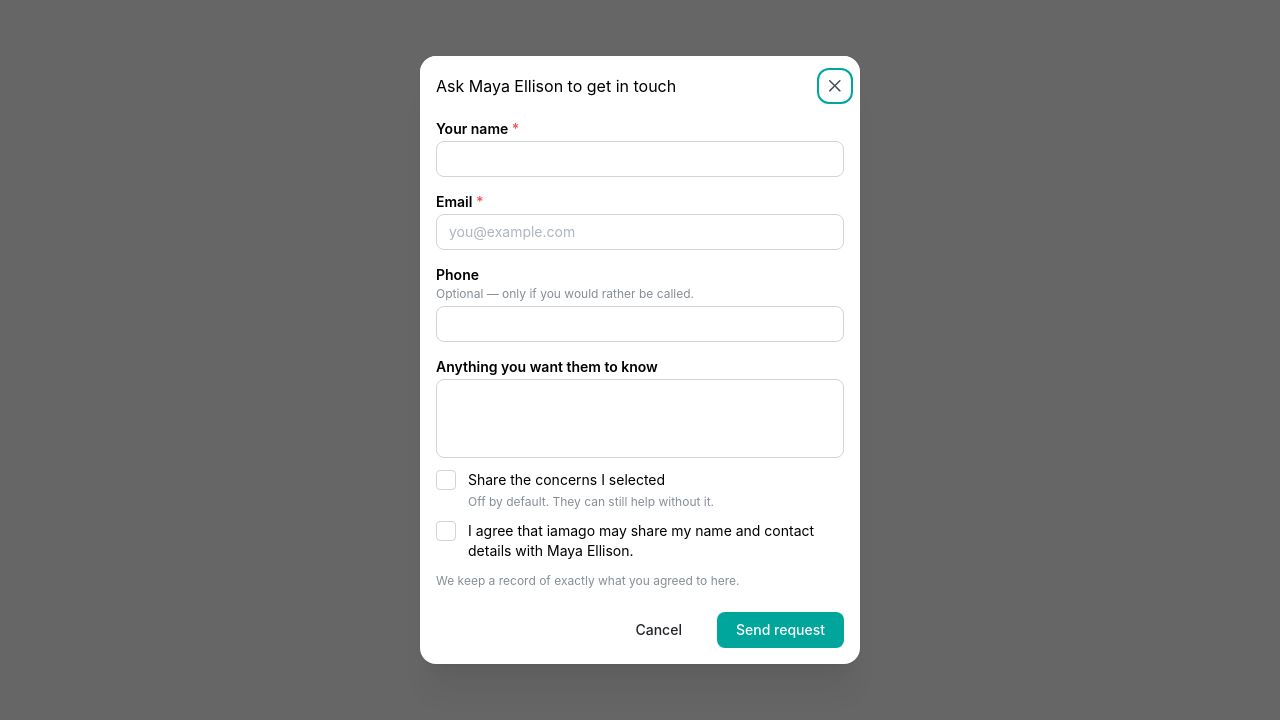
Test: <ContactRequestModal /> › will not send without consent
Type "Ada Lovelace" into the field labelled "Your name *" at (640, 159), box [436,141,844,177]
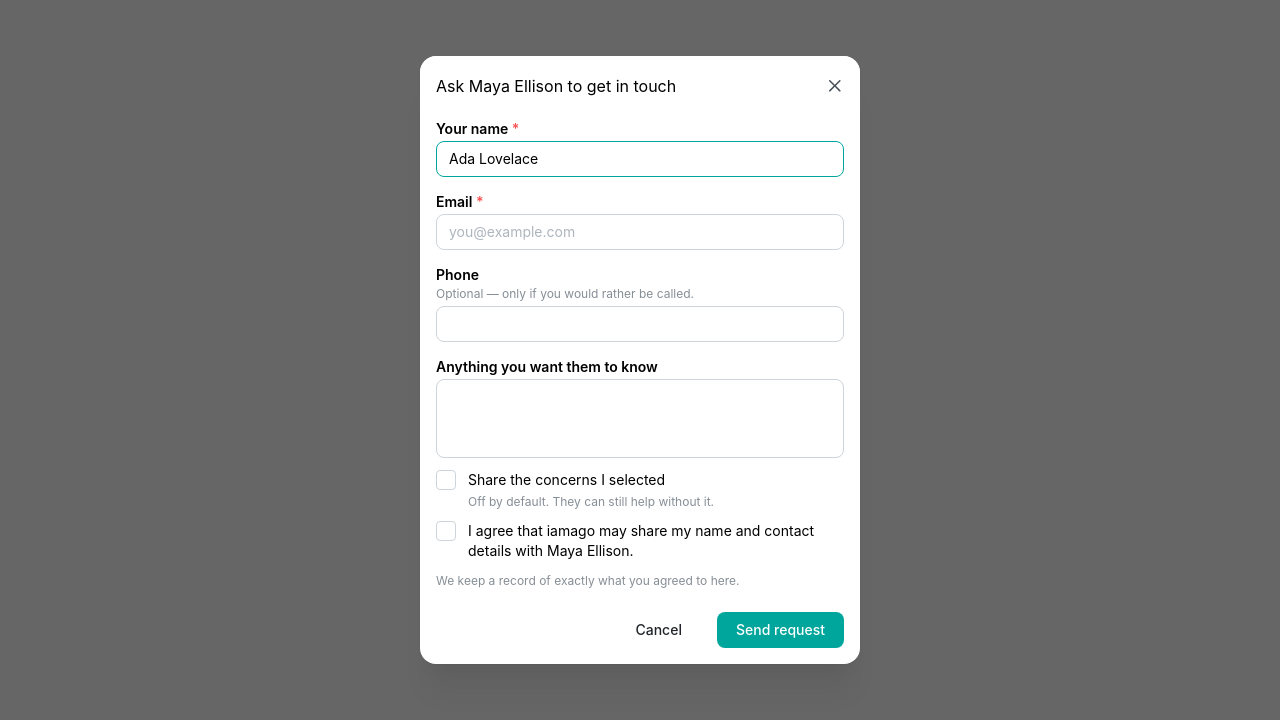
Type "ada@example.com" into the field labelled "Email *" at (640, 232), box [436,214,844,250]
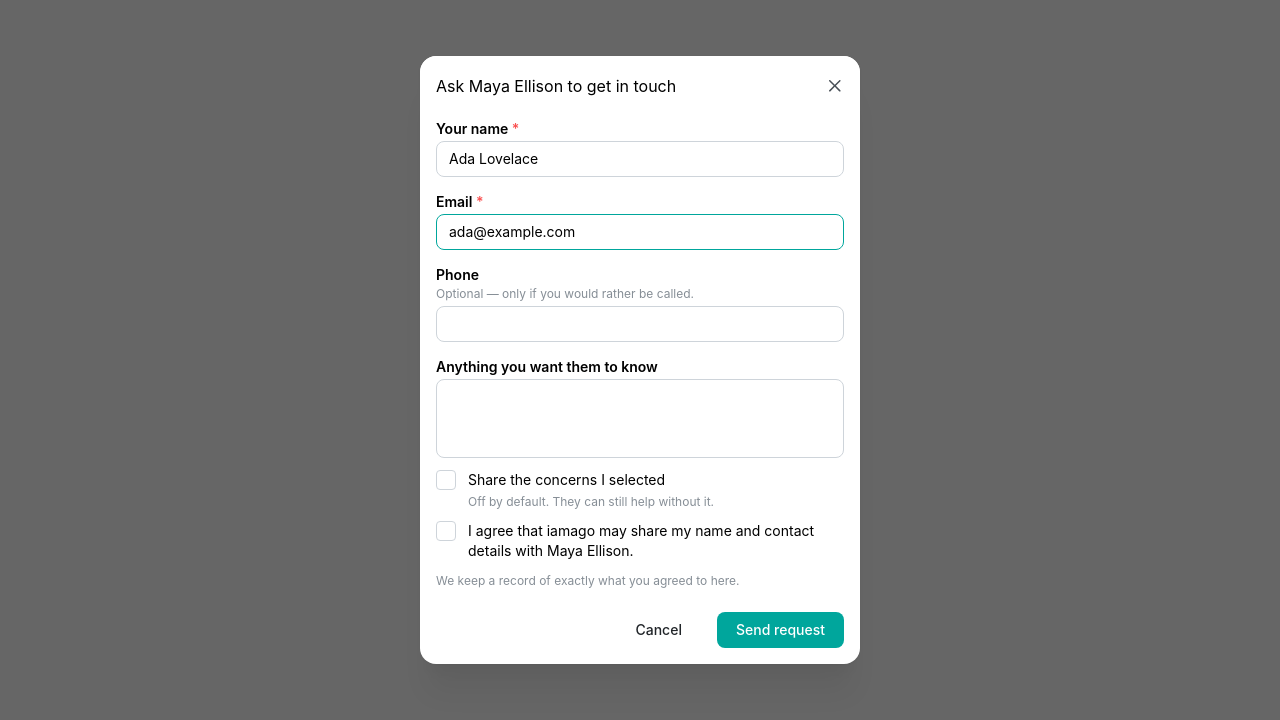
Click the button "Send request" at (780, 630), box [717,612,844,648]
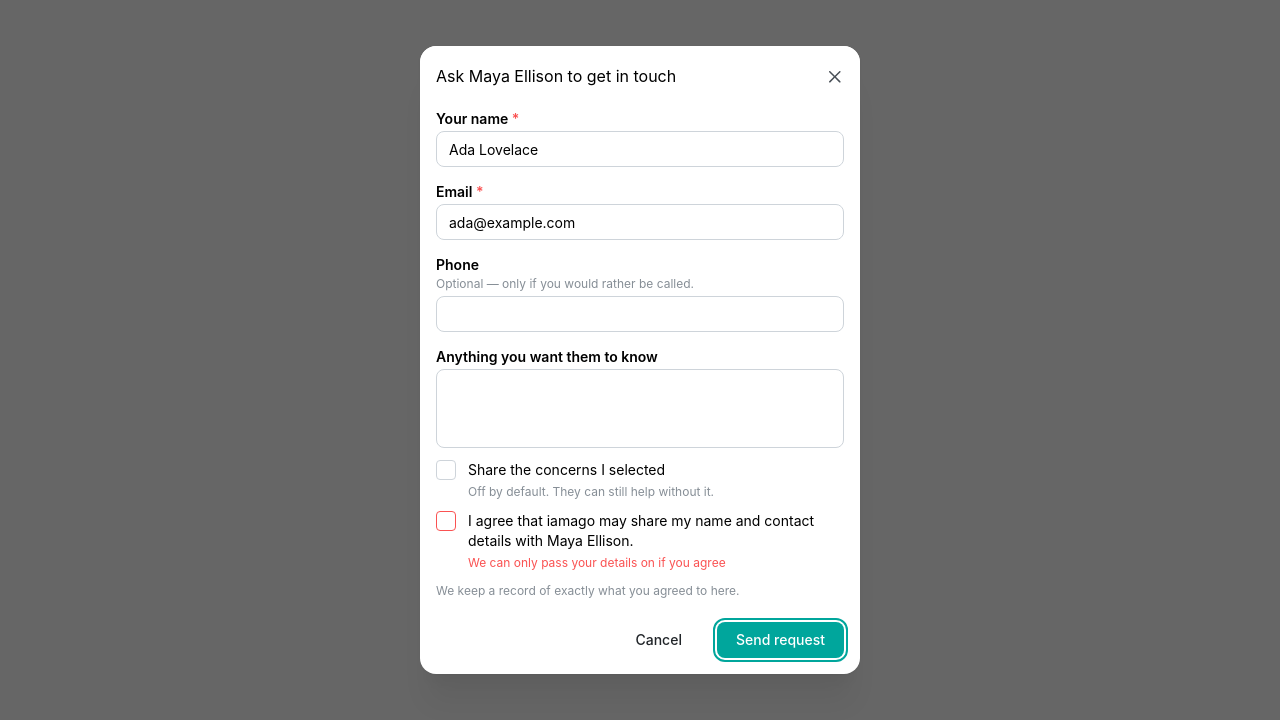
Check: the text "We can only pass your details on if you agree" is shown, box [468,555,726,570]
